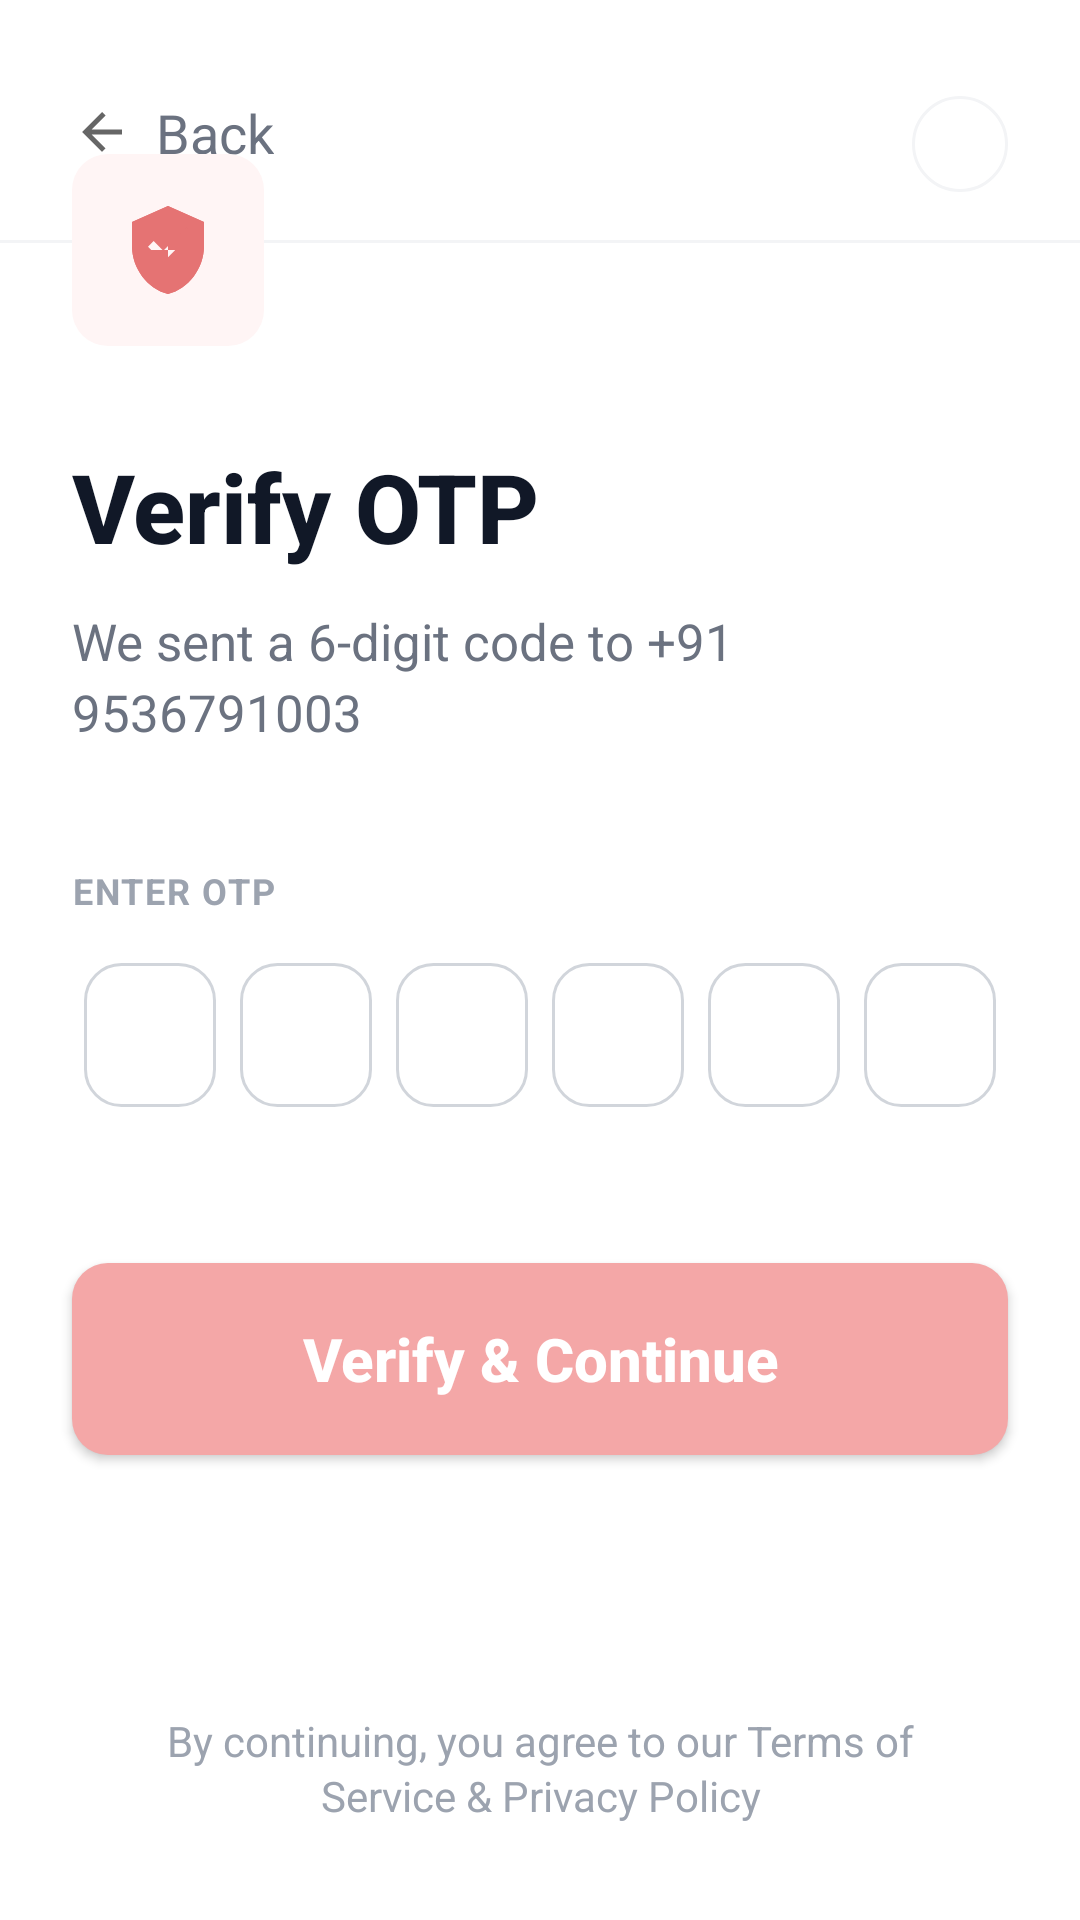

Icons on this 1080 x 1920 Android screen, each with the point to tap as (x,y):
shield: (168,250)
